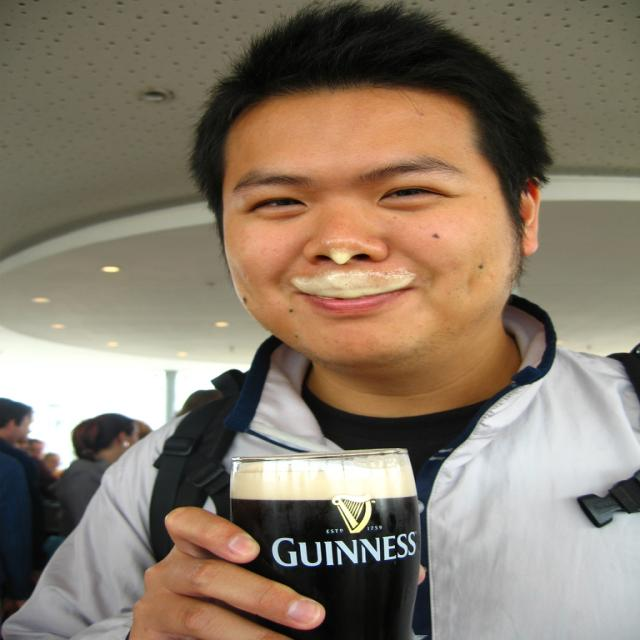guiness: (268, 492, 421, 570)
